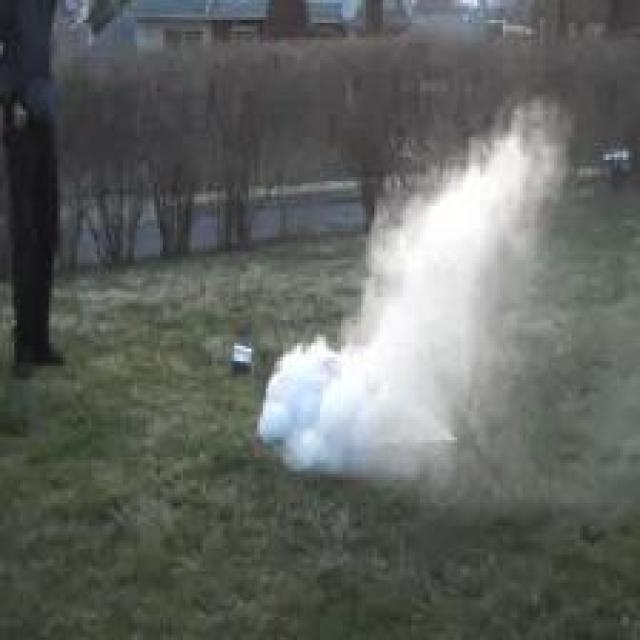Smoke: (260, 110, 570, 480)
